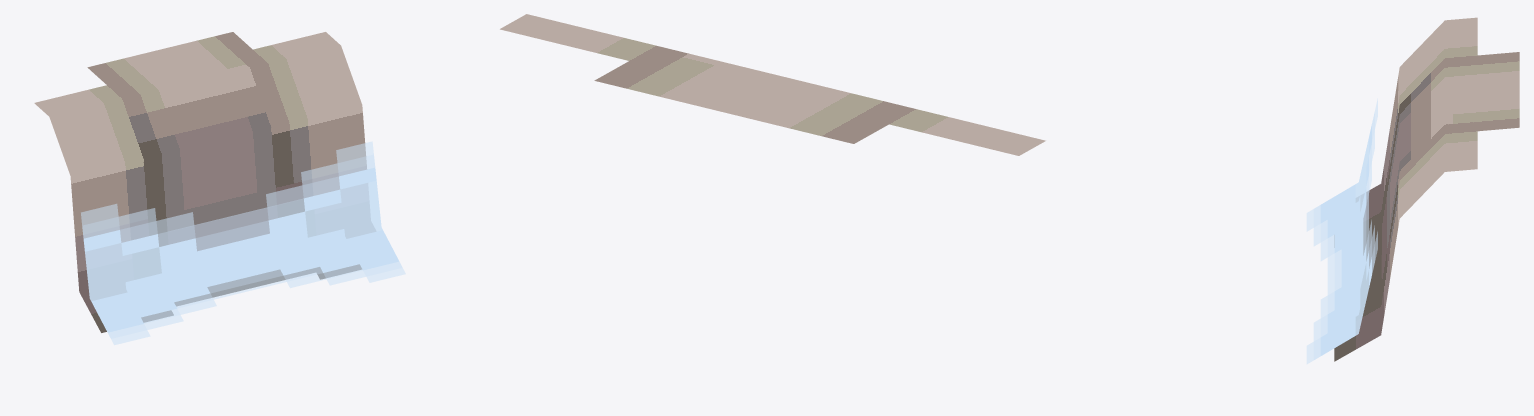
3 renders of one model, left to right at view 1: azimuth 30°, elevation 25°; view 2: azimuth 150°, elevation 25°; view 3: azimuth 270°, elevation 25°, orthographic. The views are drawn at different scales.
Bounding box in the file's own units: 1 × 0.7266 × 0.7695.
4 materials, 4 textured.
